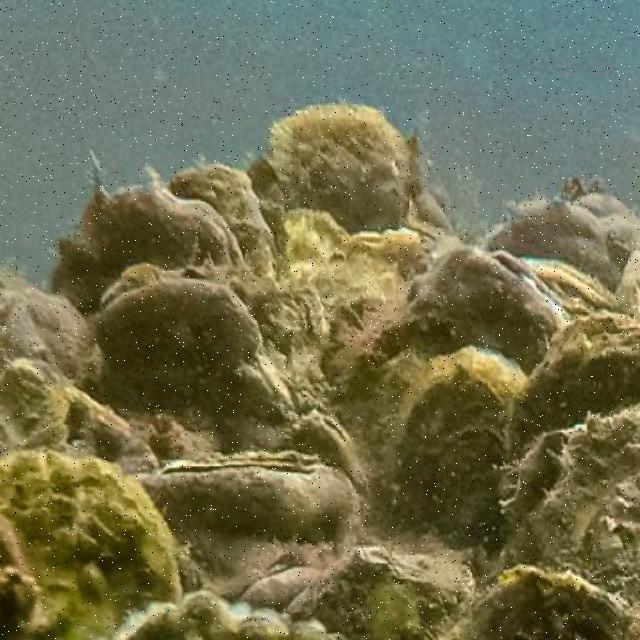Oyster-Closed: (88, 280, 292, 452), (0, 449, 182, 638), (501, 407, 638, 607), (51, 178, 243, 304), (265, 99, 413, 230), (507, 344, 638, 474), (402, 369, 506, 531), (299, 550, 459, 638), (444, 570, 638, 638), (174, 159, 280, 279), (108, 593, 342, 638), (9, 286, 101, 379)
Oyster-Open: (142, 453, 363, 597), (439, 248, 574, 374), (288, 408, 371, 486)
